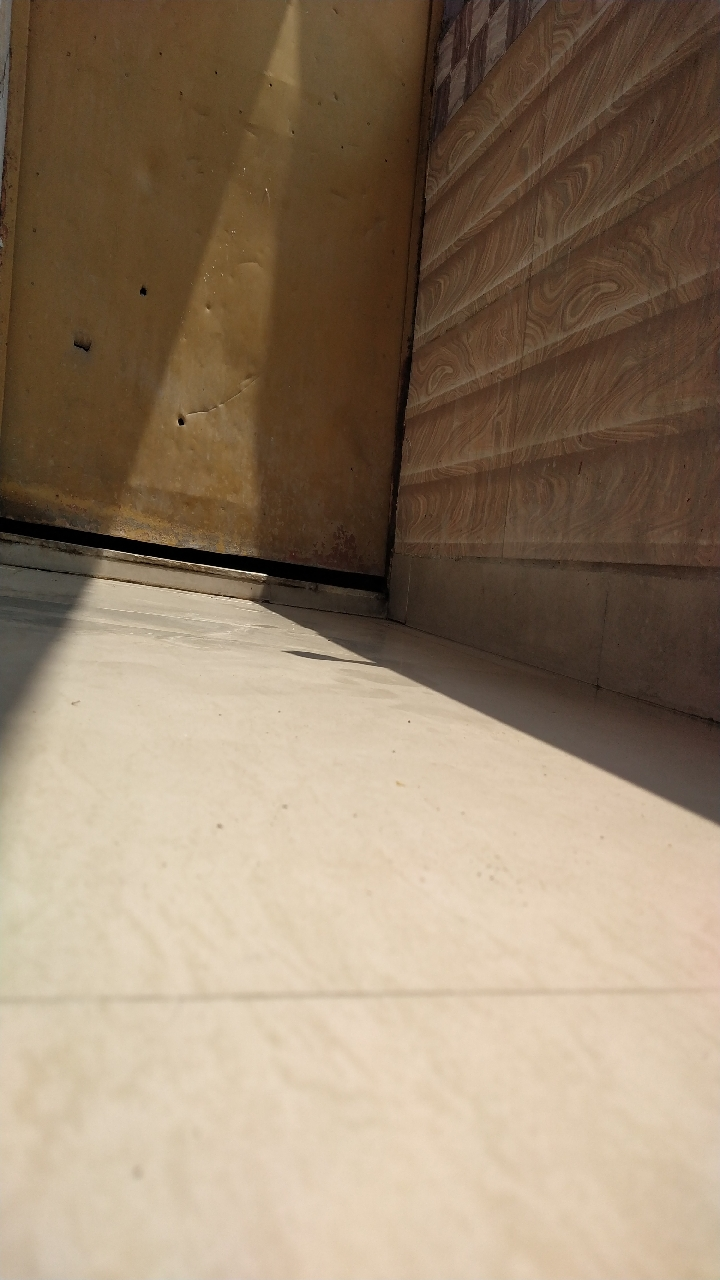Doors: (8, 138, 416, 623)
